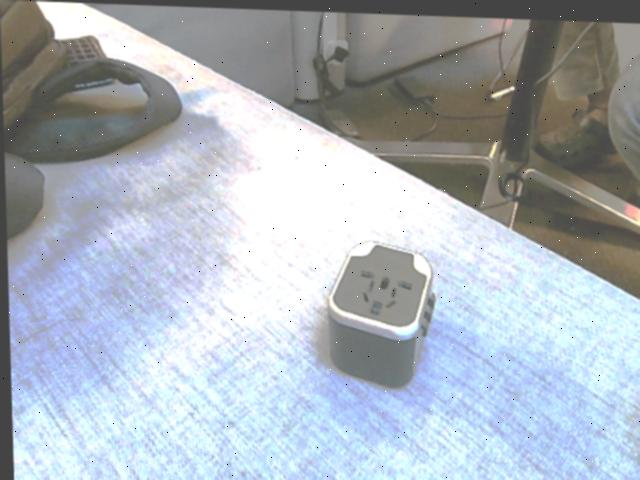adapter: (322, 236, 436, 386)
